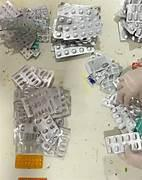Glove: (117, 67, 141, 105), (119, 145, 141, 168)
pill_Strip: (14, 87, 70, 155), (53, 3, 101, 39), (85, 53, 121, 93), (22, 87, 69, 117), (102, 93, 137, 131), (53, 16, 101, 39), (118, 0, 141, 42), (105, 133, 141, 153), (12, 66, 40, 88), (35, 116, 58, 140), (54, 45, 94, 58), (85, 53, 111, 73), (57, 3, 99, 15), (55, 128, 70, 157), (15, 154, 42, 168), (35, 68, 53, 86), (2, 0, 20, 16), (20, 47, 33, 60), (18, 177, 47, 179)
